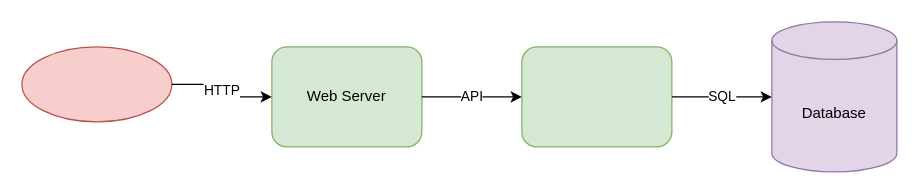
Image size: 919x194. Some labels were removed from this diagram. Each missing label, with the centre of its shape:
"Frontend" belongs at [596,96].
"Load Balancer" belongs at [96,84].
